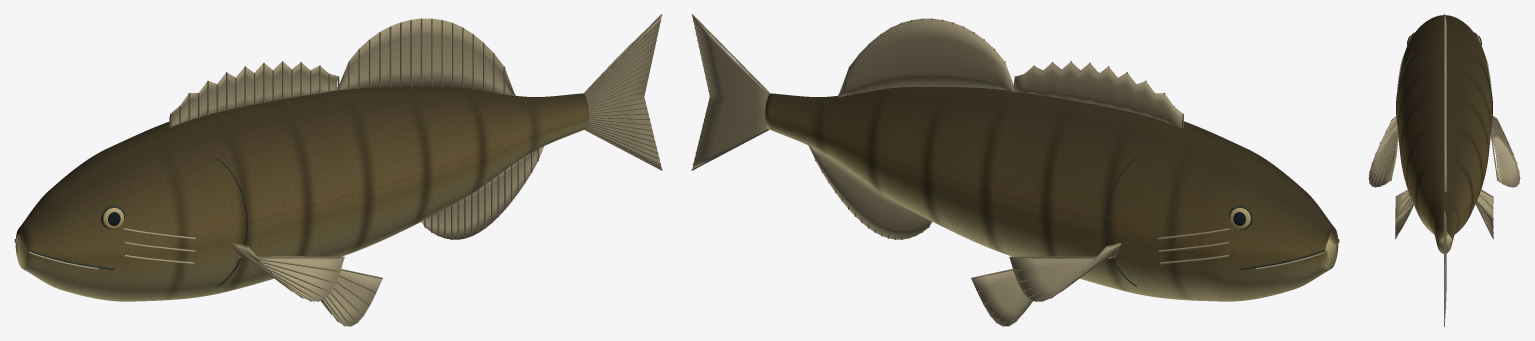
Rendered from smallmouth.glb.
3 views of the same model, side by side, from view 1: azimuth 30°, elevation 25°; view 2: azimuth 150°, elevation 25°; view 3: azimuth 270°, elevation 25° (orthographic). The views are drawn at different scales.
Visible parts, largest first — view 1: smallmouth specimen; view 2: smallmouth specimen; view 3: smallmouth specimen.
Part boxes in pixels (box(x1,y1,x2,y2)): smallmouth specimen: box(14, 14, 662, 326); smallmouth specimen: box(691, 14, 1339, 326); smallmouth specimen: box(1368, 14, 1520, 326).
Bounding box in the file's own units: 2.33 × 0.9028 × 0.6479.
7 materials, 1 textured.
